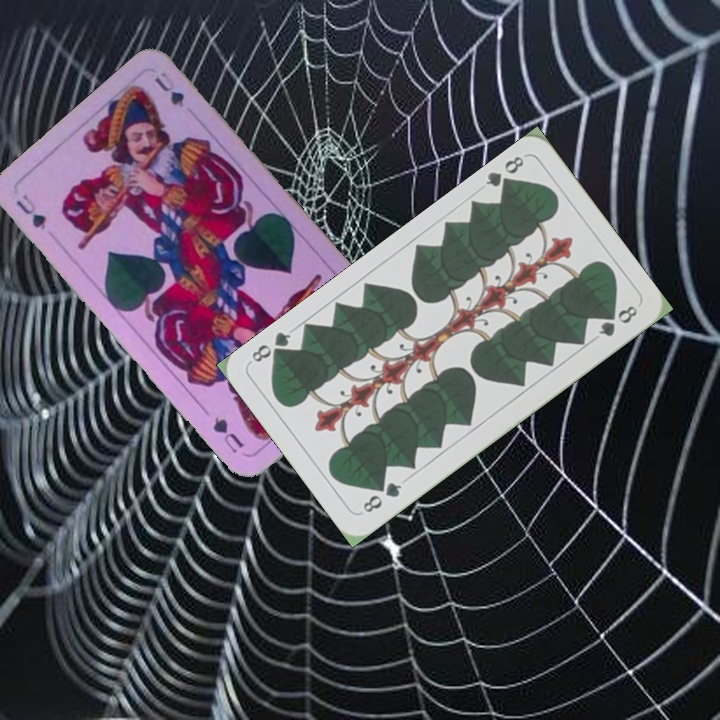G8: (481, 151, 527, 194), (358, 477, 405, 516)
GU: (11, 190, 49, 232)
